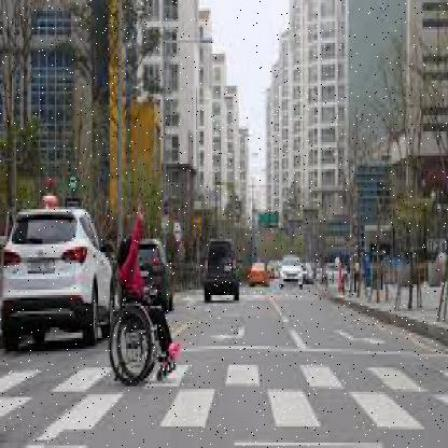wheel: (106, 206, 177, 382)
